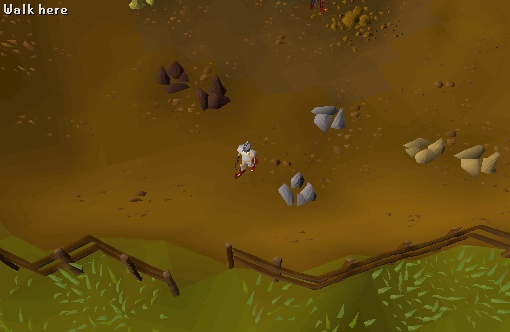clay: (399, 129, 451, 175), (451, 137, 503, 183)
iron: (192, 70, 237, 117), (149, 54, 194, 101)
tin: (269, 166, 329, 218), (308, 97, 353, 139)
